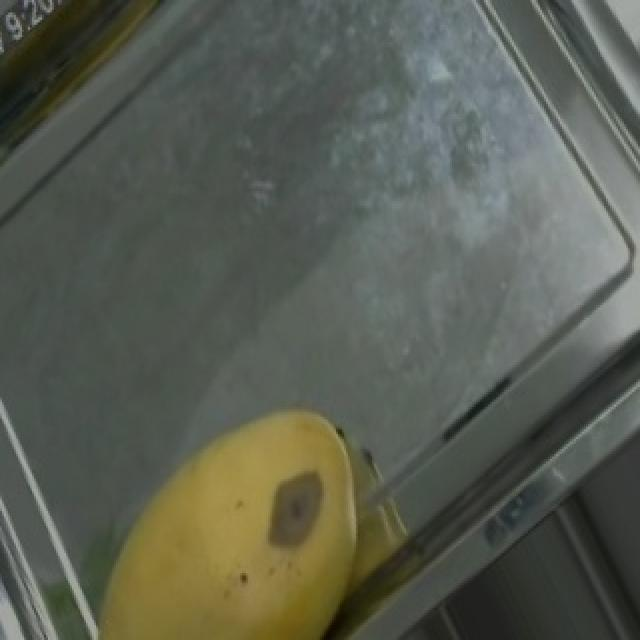fruit: (50, 350, 466, 640)
